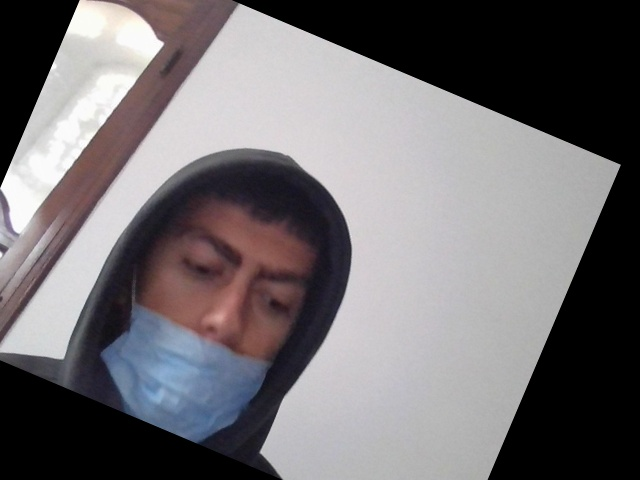mask_weared_incorrect: (89, 182, 318, 446)
